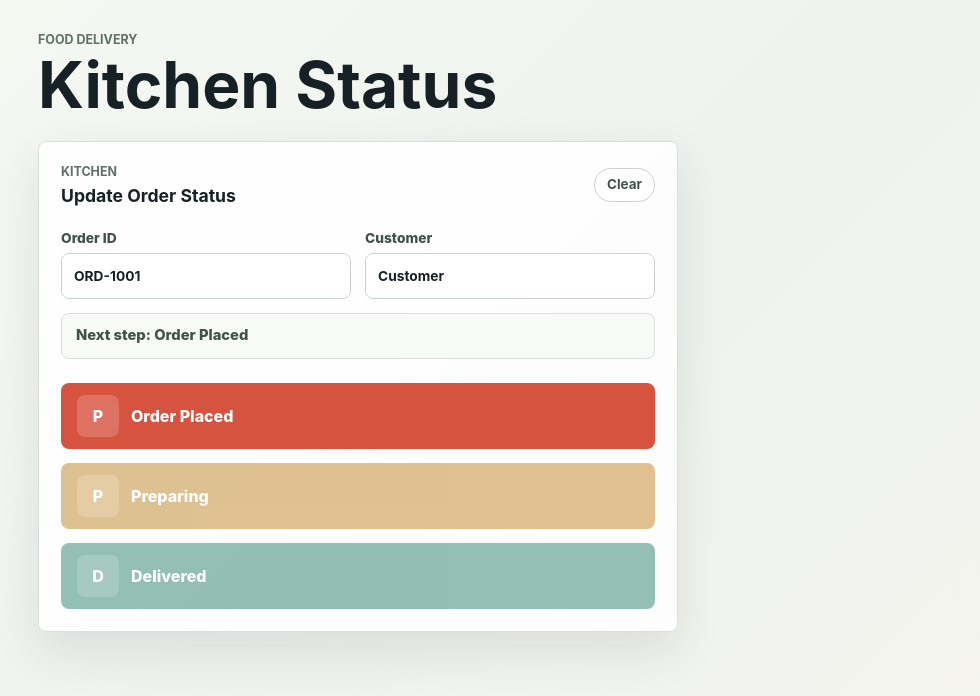
Test: App › shows only kitchen controls and enables each status in order
Expected: the heading "Kitchen Status" is shown, [38,53,497,117]
Expected: the button "Clear" is enabled, [594,168,655,202]
Replace the text in the field labelled "Order ID" with "ORD-5001". click: [206, 276]
box: [61,253,351,299]
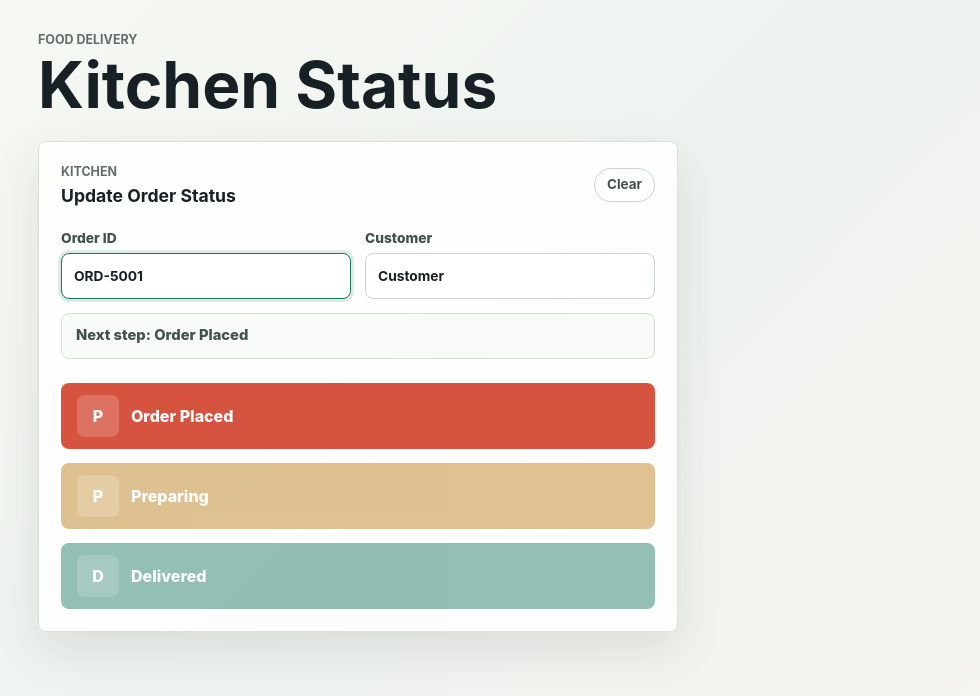
Replace the text in the field labelled "Customer" with "Aarav". click: [510, 276]
box: [365,253,655,299]
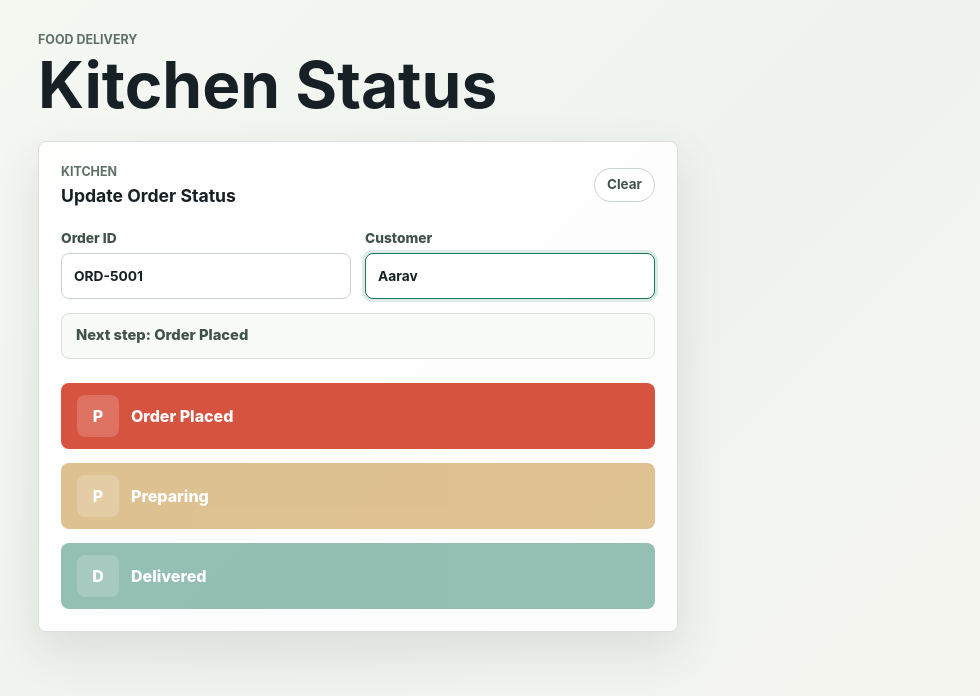
Click the button "P Order Placed". click: [98, 416]
box: [61,383,655,449]
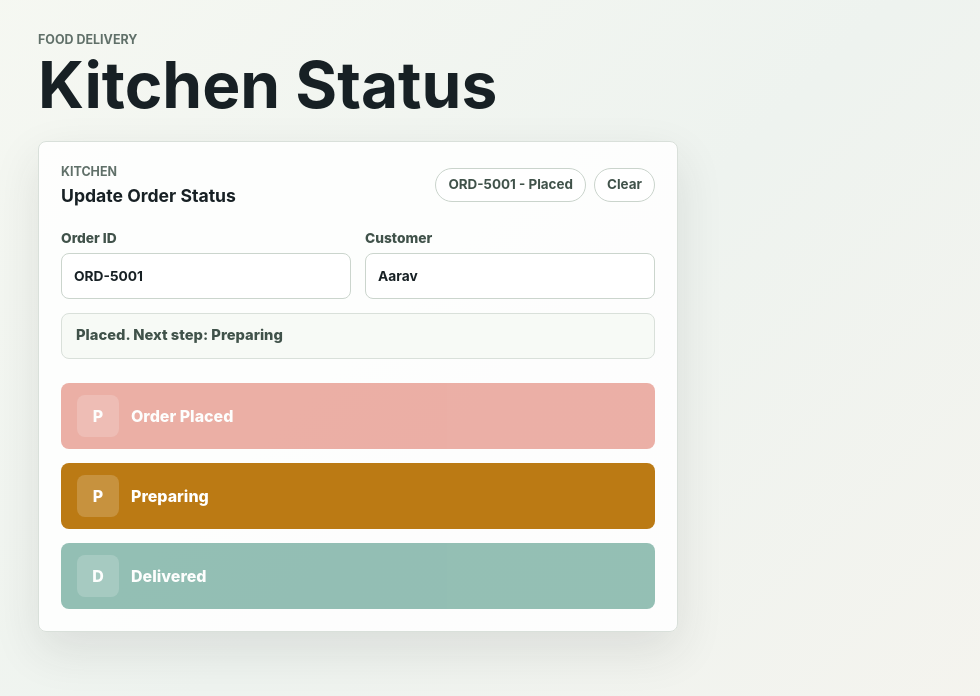
Result: the text "ORD-5001 - placed" is shown at [435,168,586,202]
Result: the button "P Preparing" is enabled
Result: the button "P Order Placed" is disabled at [61,383,655,449]
Click the button "P Preparing". click: [98, 496]
box: [61,463,655,529]
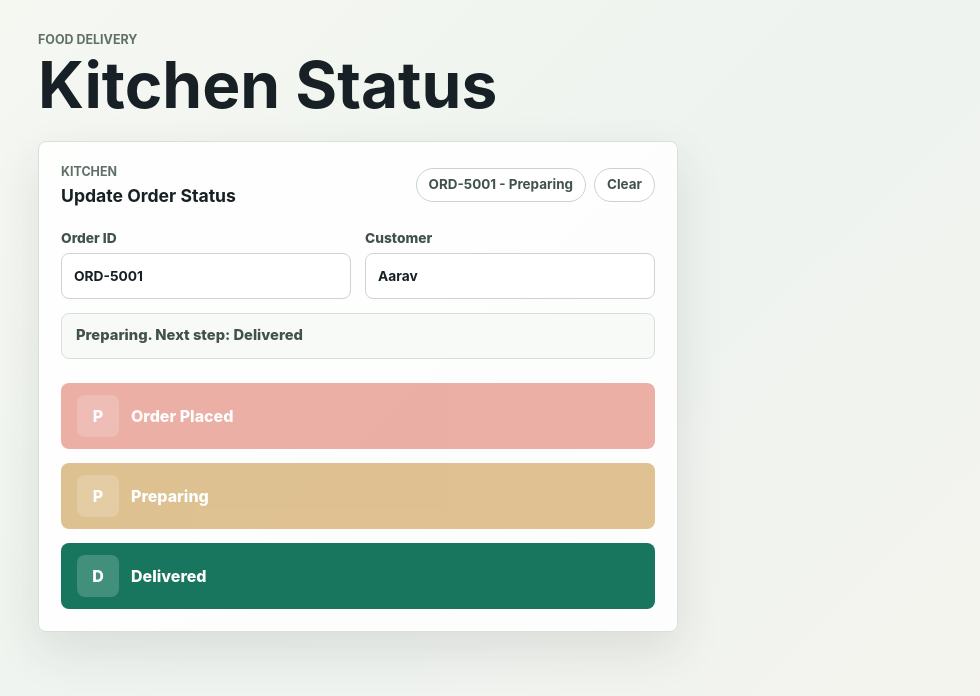
Result: the button "P Order Placed" is disabled at [61,383,655,449]
Result: the text "ORD-5001 - preparing" is shown at [416,168,586,202]
Result: the button "D Delivered" is enabled
Click the button "D Delivered". click: [98, 576]
box: [61,543,655,609]
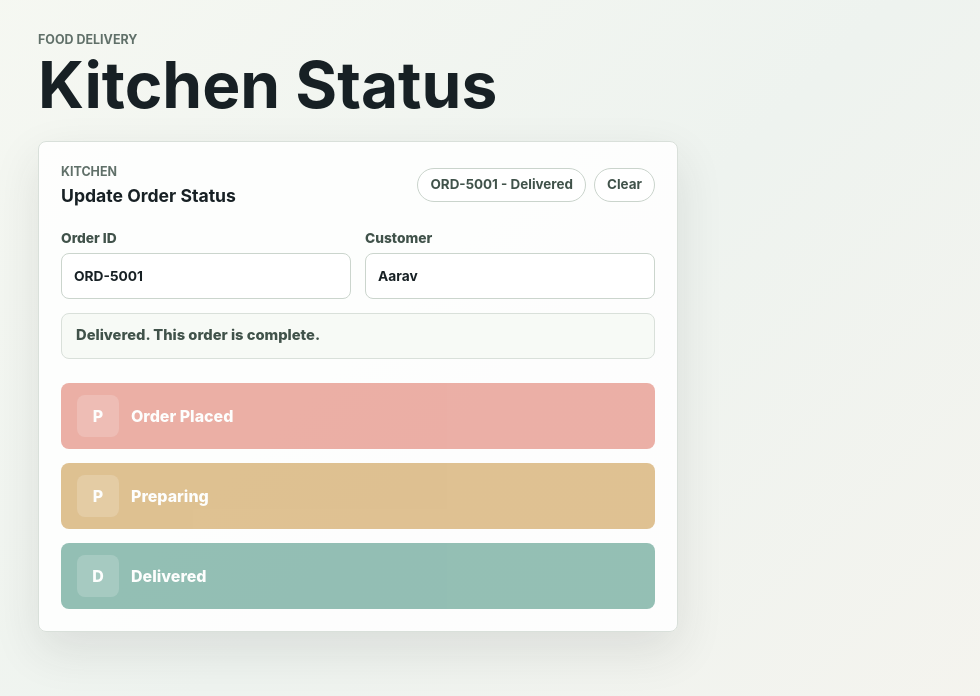
Result: the button "P Order Placed" is disabled at [61,383,655,449]
Result: the button "P Preparing" is disabled at [61,463,655,529]
Result: the text "ORD-5001 - delivered" is shown at [418,168,586,202]
Click the button "Clear". click: [624, 185]
box: [594,168,655,202]
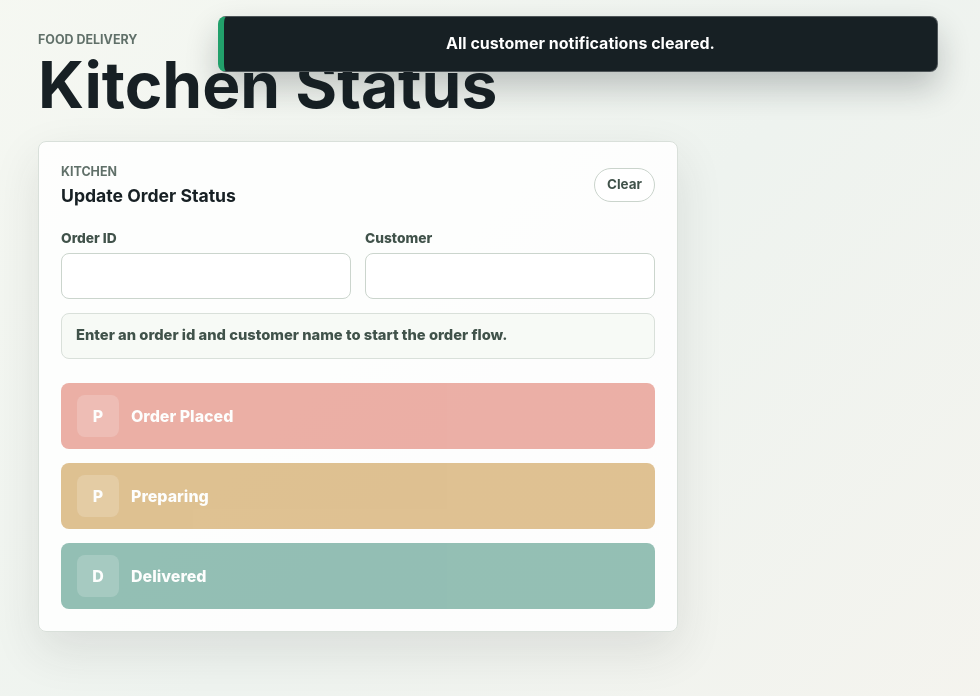
Result: the button "P Order Placed" is disabled at [61,383,655,449]
Result: the text "ORD-5001 - delivered" is gone
